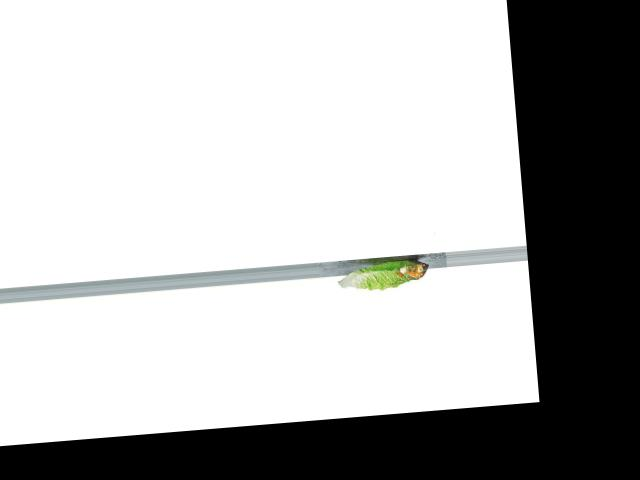lettuce: (335, 253, 434, 296)
